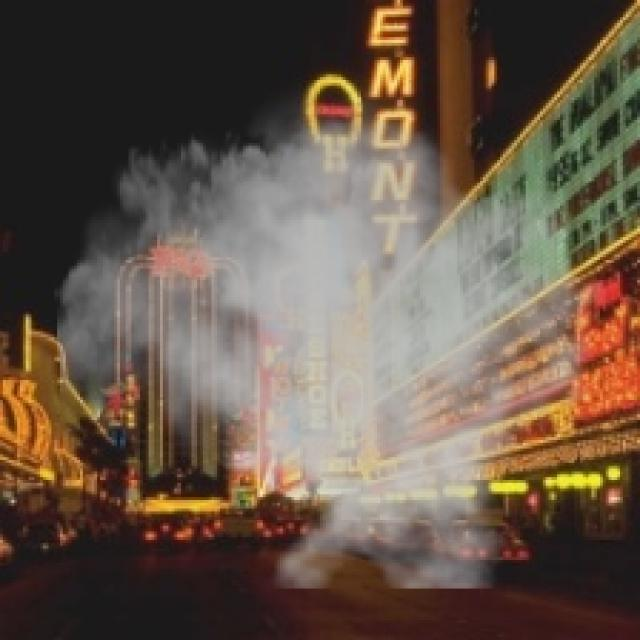smoke: (54, 69, 612, 588)
